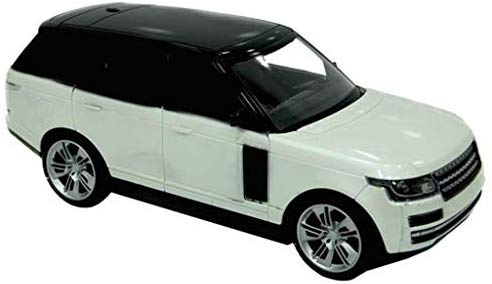ARABA: (5, 1, 487, 283)
